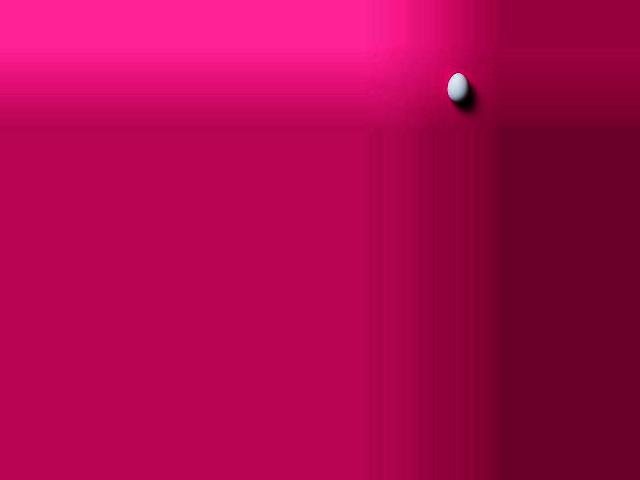egg: (446, 73, 468, 103)
